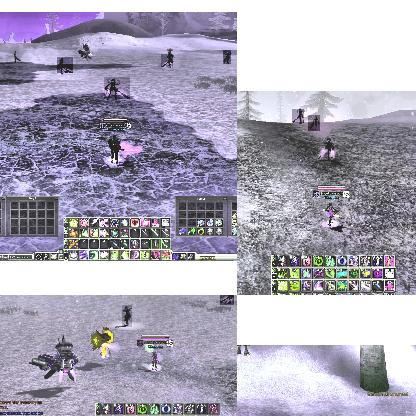caliana: (104, 77, 130, 99), (317, 139, 335, 161), (57, 57, 73, 73), (122, 305, 132, 327), (308, 115, 320, 131), (292, 109, 304, 123), (161, 54, 173, 66), (219, 295, 234, 304), (12, 50, 22, 62), (223, 50, 231, 64)
